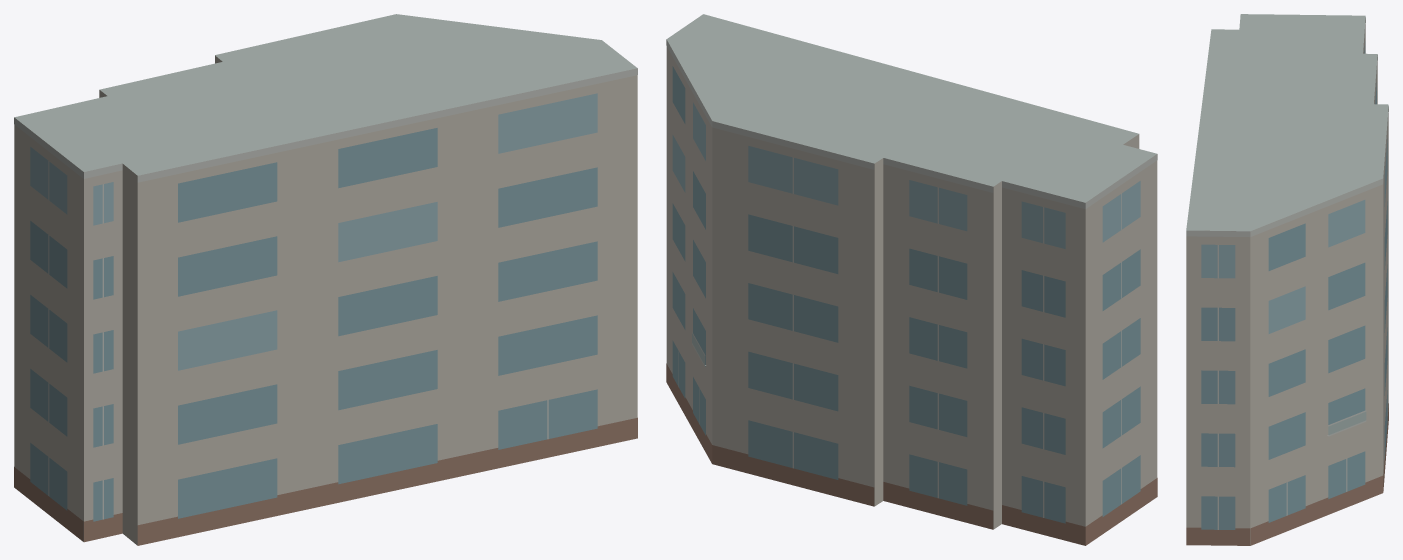
The model's file is survey-upis-32558037.glb.
3 renders of one model, left to right at view 1: azimuth 30°, elevation 25°; view 2: azimuth 150°, elevation 25°; view 3: azimuth 270°, elevation 25°, orthographic. The views are drawn at different scales.
Visible parts, largest first — view 1: survey-upis-32558037.tmp; view 2: survey-upis-32558037.tmp; view 3: survey-upis-32558037.tmp.
Part boxes in pixels (bbox=[...]): survey-upis-32558037.tmp: bbox=[14, 14, 637, 545]; survey-upis-32558037.tmp: bbox=[666, 14, 1157, 545]; survey-upis-32558037.tmp: bbox=[1186, 14, 1388, 545].
Bounding box in the file's own units: 19.42 × 13.1 × 7.66.
